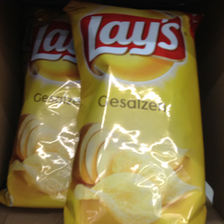chips: (65, 5, 206, 222), (9, 21, 81, 210)
